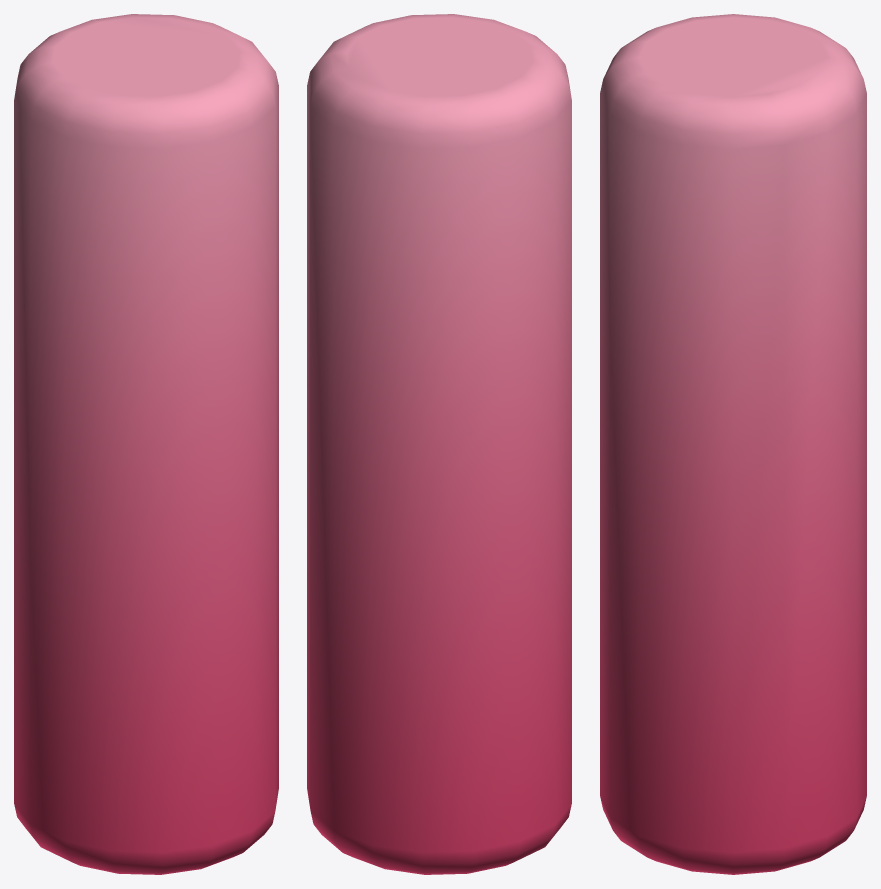
The model's file is flask_001.fbx.
The picture shows the model from 3 angles, left to right: view 1: azimuth 30°, elevation 25°; view 2: azimuth 150°, elevation 25°; view 3: azimuth 270°, elevation 25°; orthographic projection.
Parts seen in each view (by area): view 1: flask_001; view 2: flask_001; view 3: flask_001.
Part boxes in pixels (box(x1,y1,x2,y2)): flask_001: box(14, 14, 278, 874); flask_001: box(307, 14, 571, 874); flask_001: box(600, 14, 866, 874).
Size of the model in its own units: 248 by 248 by 793.
